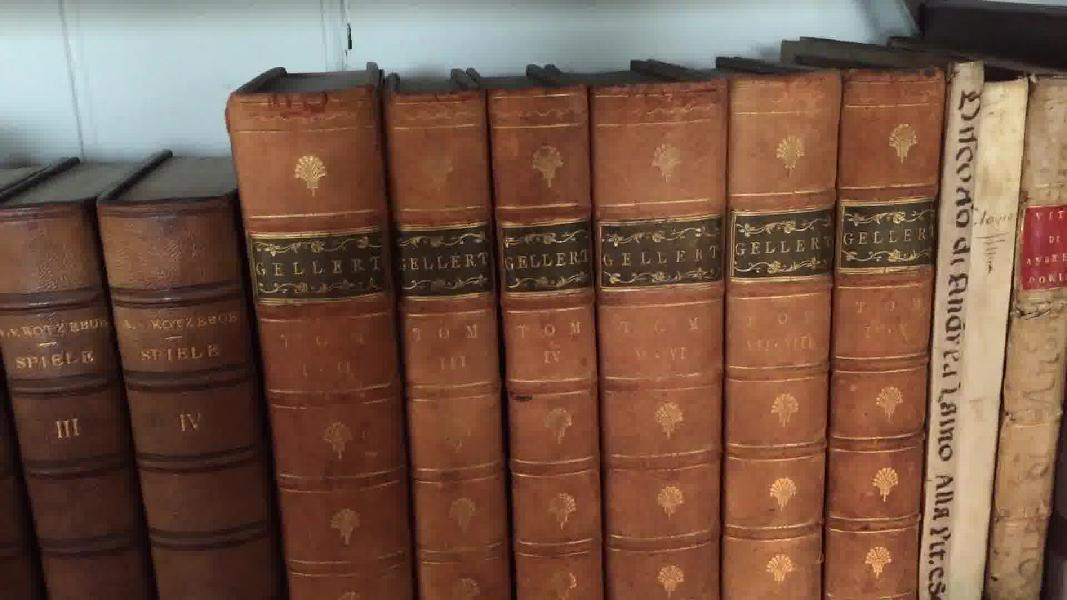Aa6-18_23: (220, 54, 947, 592)
Aa6-24: (904, 29, 981, 600)
Aa6-25: (951, 64, 1028, 600)
